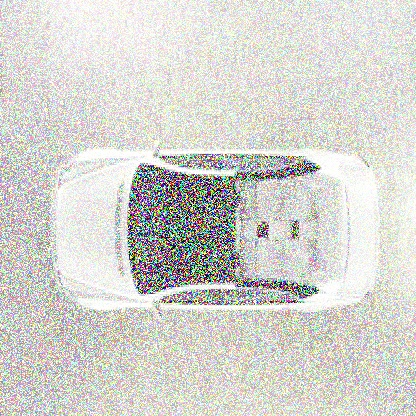Vehicle: (47, 135, 384, 328)
